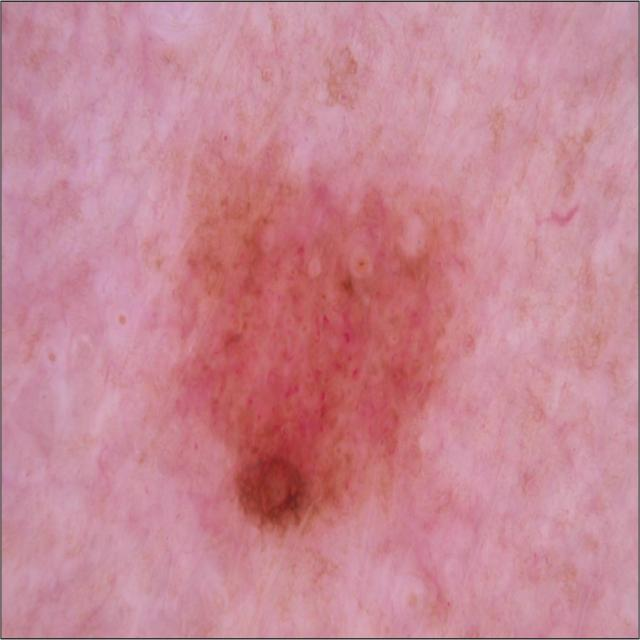Benign: (185, 144, 457, 538)
